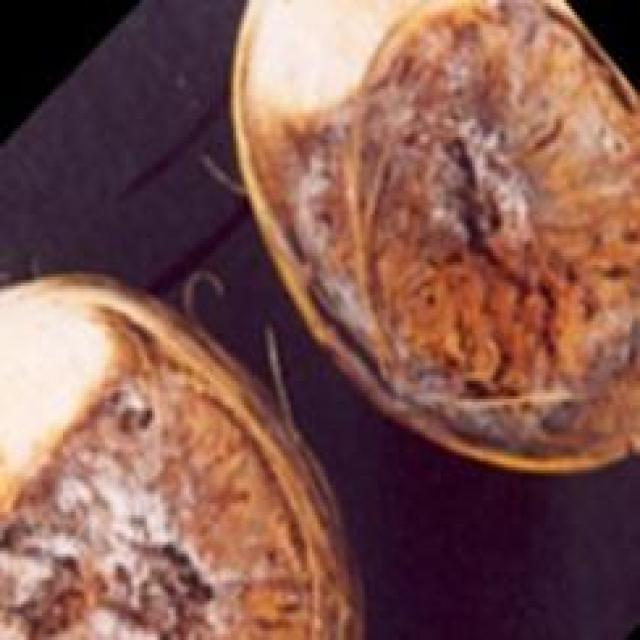damaged: (226, 0, 637, 479), (0, 271, 365, 637)
